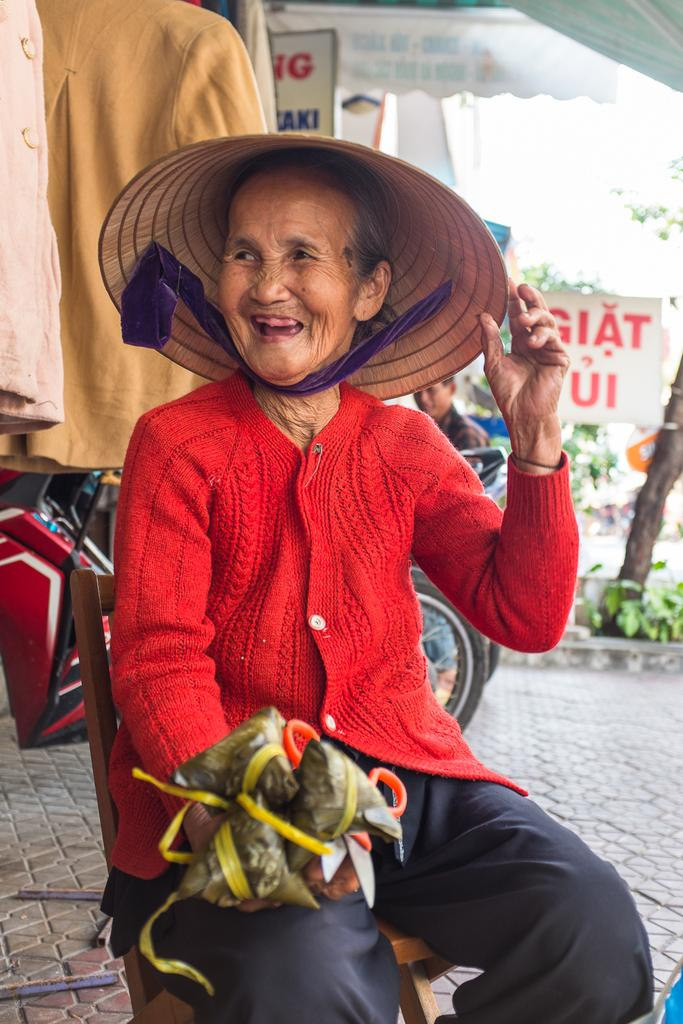Hat: (92, 130, 506, 398)
